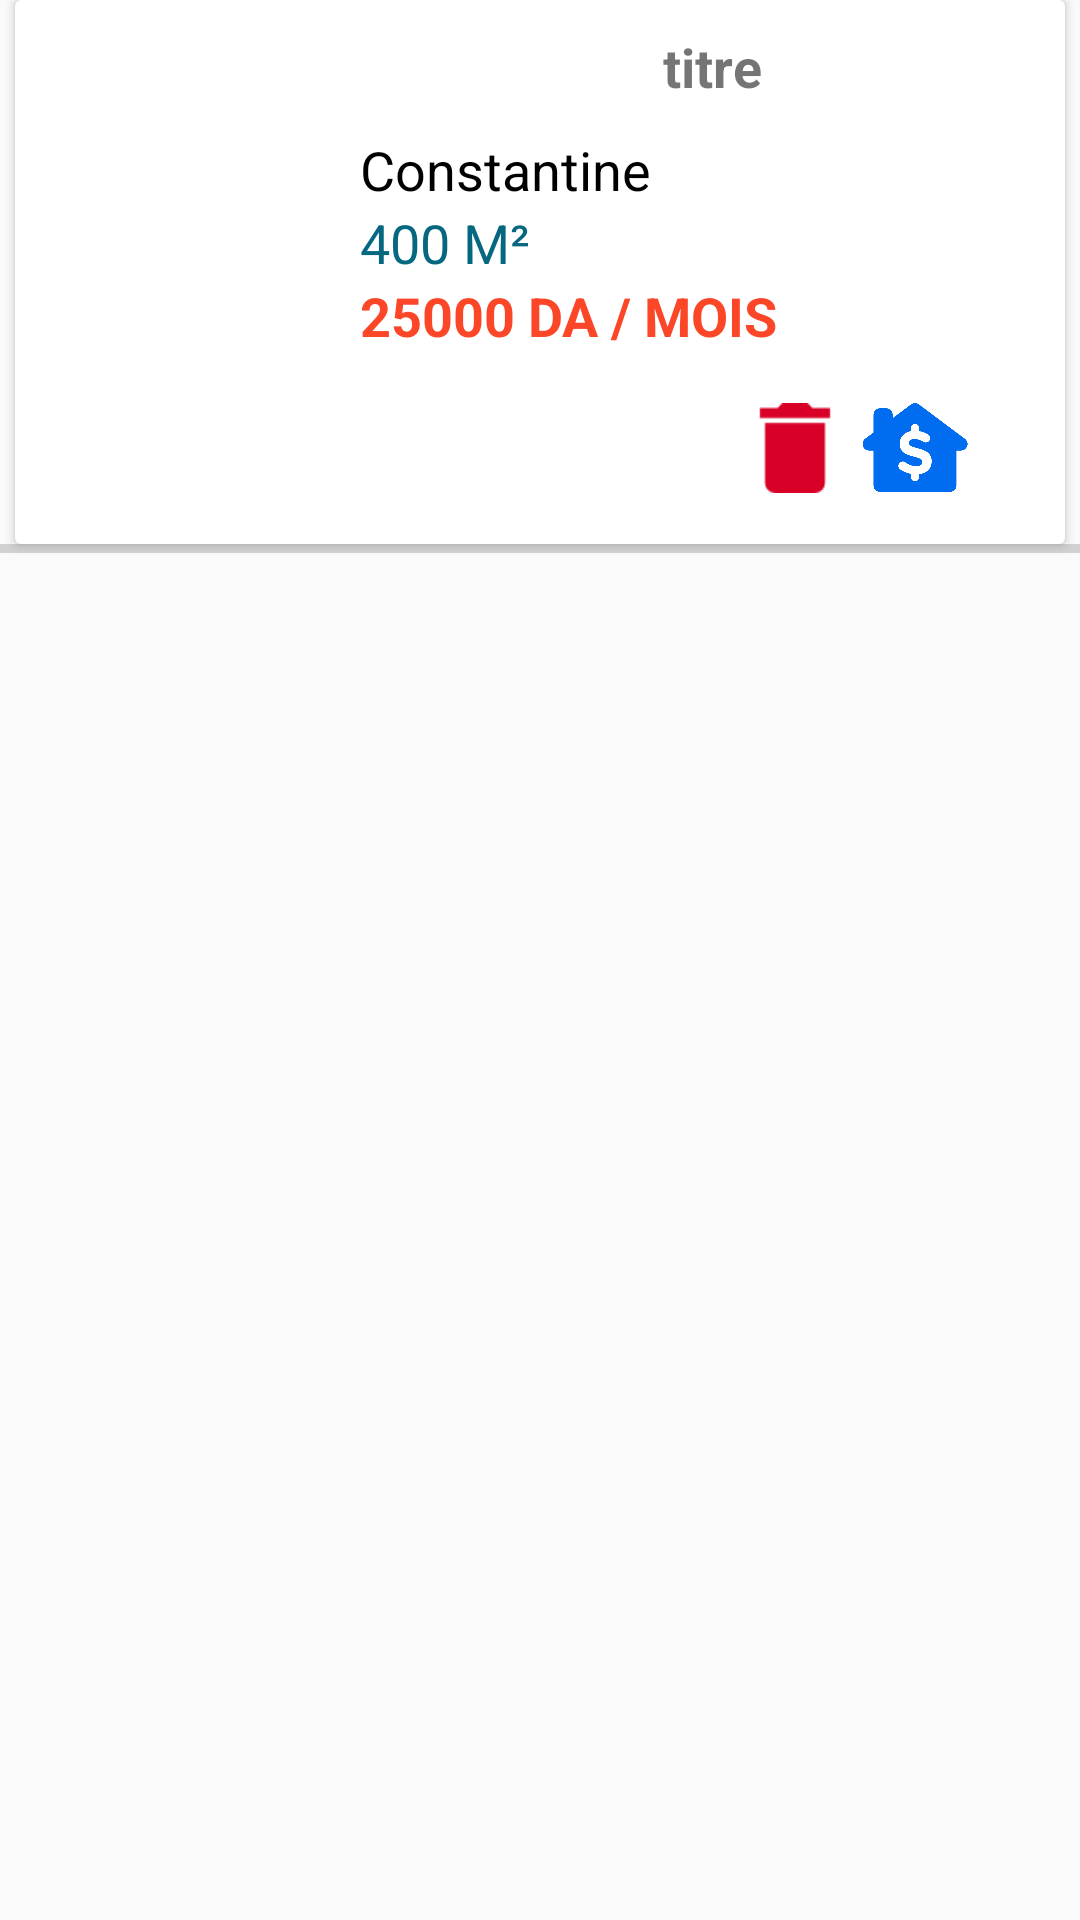

Icons on this 1080px x 1920px Android screen, each with its box as box(x1, y1, x2, y2):
deletebien: box(759, 403, 831, 493)
